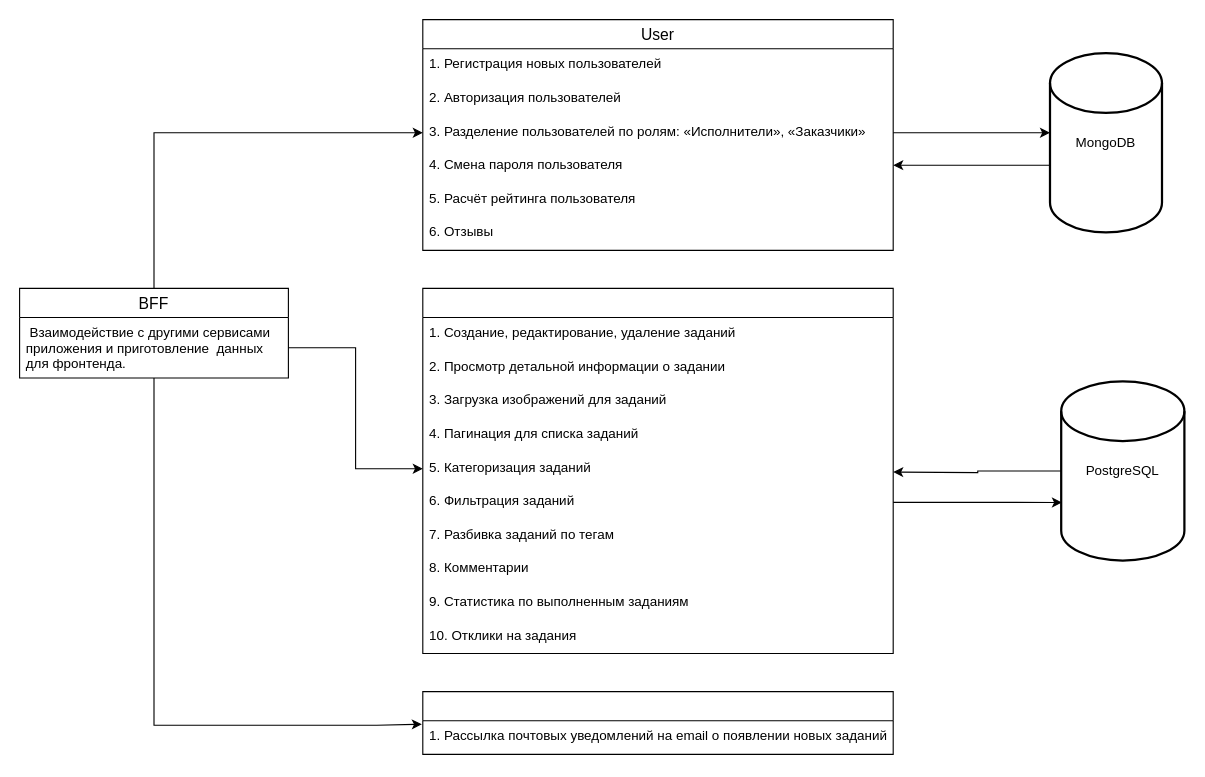
Some shapes in this 1205 by 777 pixel diagram are drawn without their labels. Here are the shapes that lost their labels. From the top down, the box of each, then its label:
(422, 287, 893, 654): Task
(422, 690, 893, 754): Notify
